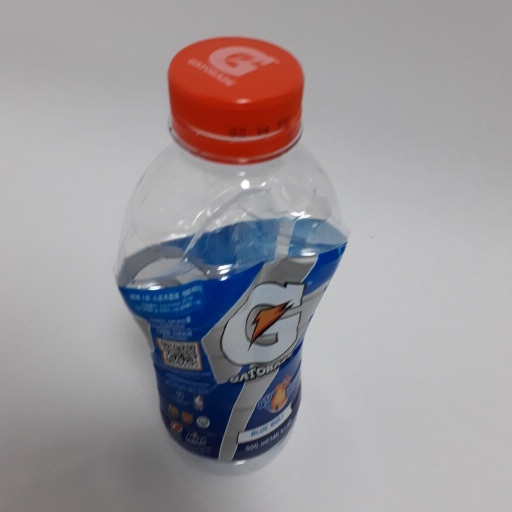Plastic_0: (113, 39, 348, 477)
